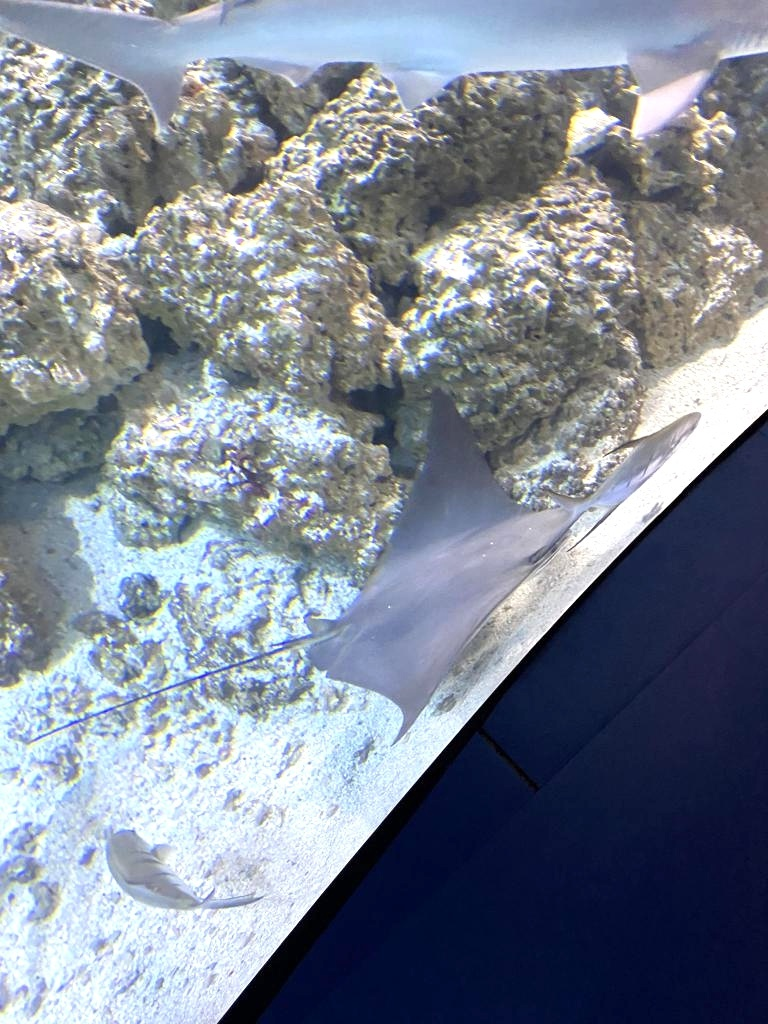fish: (551, 410, 703, 532), (107, 828, 255, 908)
shark: (1, 0, 768, 143)
stingray: (303, 380, 577, 744)
